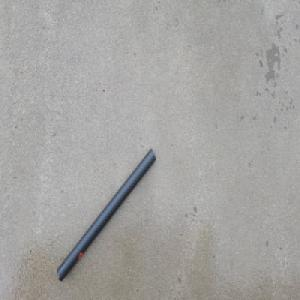LuggagePart: (56, 146, 157, 281)
